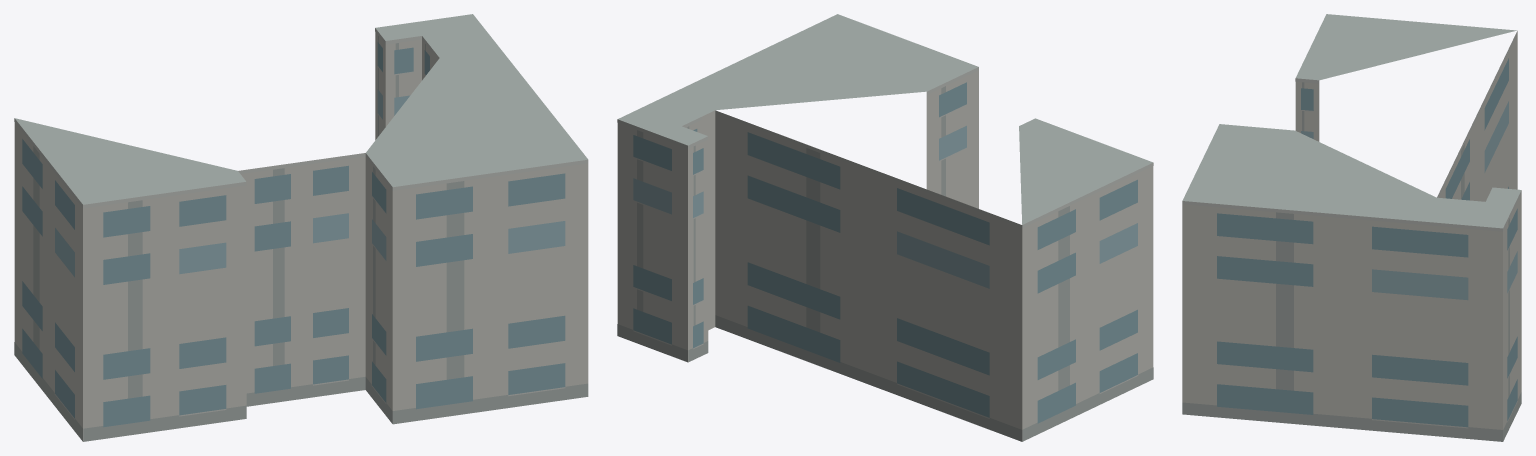
The model's file is residential-5d5bdf7b-ffea-4668-afb3-1d11daceb29f.glb.
3 views of the same model, side by side, from view 1: azimuth 30°, elevation 25°; view 2: azimuth 150°, elevation 25°; view 3: azimuth 270°, elevation 25° (orthographic). The views are drawn at different scales.
Parts seen in each view (by area): view 1: residential-5d5bdf7b-ffea-4668-afb3-1d11daceb29f.tmp; view 2: residential-5d5bdf7b-ffea-4668-afb3-1d11daceb29f.tmp; view 3: residential-5d5bdf7b-ffea-4668-afb3-1d11daceb29f.tmp.
Boxes of the visible parts, x1,y1,x2,y2 form: residential-5d5bdf7b-ffea-4668-afb3-1d11daceb29f.tmp: (14, 14, 588, 441); residential-5d5bdf7b-ffea-4668-afb3-1d11daceb29f.tmp: (617, 14, 1153, 441); residential-5d5bdf7b-ffea-4668-afb3-1d11daceb29f.tmp: (1182, 14, 1521, 441).
Bounding box in the file's own units: 32.86 × 15.25 × 21.98.
